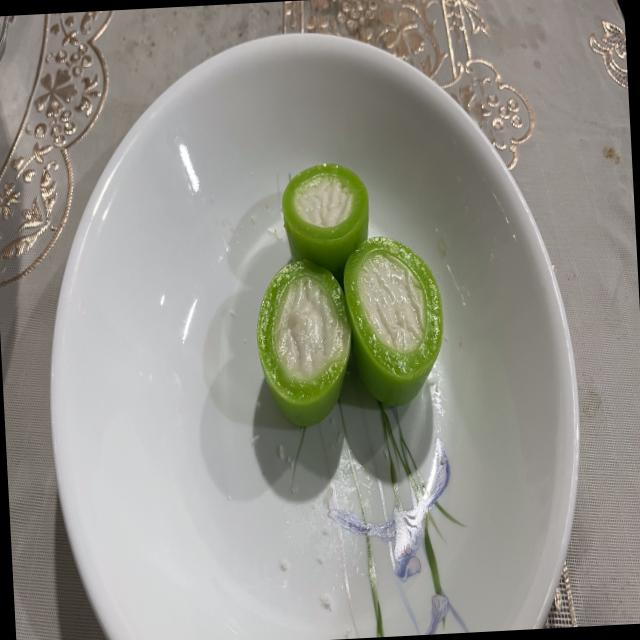nona-manis: (344, 237, 443, 405), (257, 260, 351, 428), (282, 163, 369, 283)
